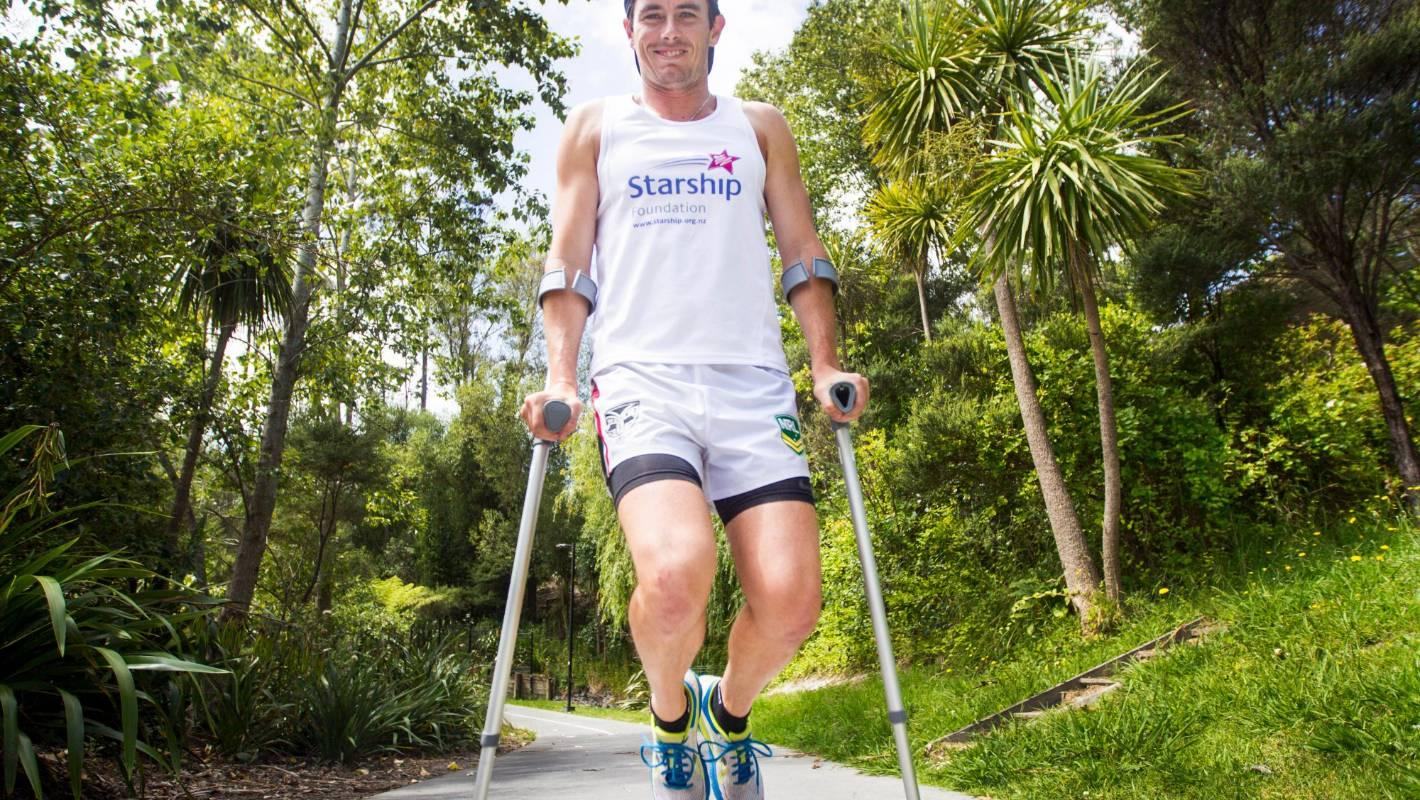crutches: (472, 0, 921, 800)
